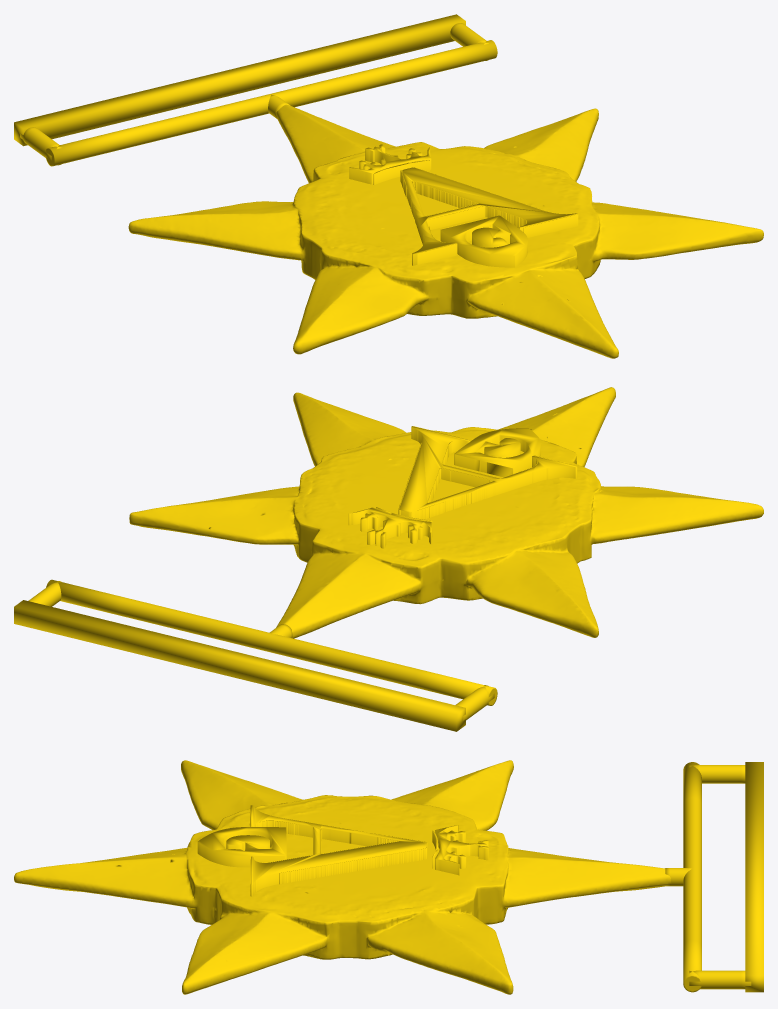
Rendered from MedaloftheAuthority.glb.
3 views of the same model, one above another, from view 1: azimuth 30°, elevation 25°; view 2: azimuth 150°, elevation 25°; view 3: azimuth 270°, elevation 25° (orthographic).
Visible parts, largest first — view 1: EN4_Rectangle; view 2: EN4_Rectangle; view 3: EN4_Rectangle.
Boxes of the visible parts, x1,y1,x2,y2 form: EN4_Rectangle: (14,14,763,358); EN4_Rectangle: (14,387,763,731); EN4_Rectangle: (14,760,763,994).
Size of the model in its own units: 43.2 by 4.92 by 60.44.
